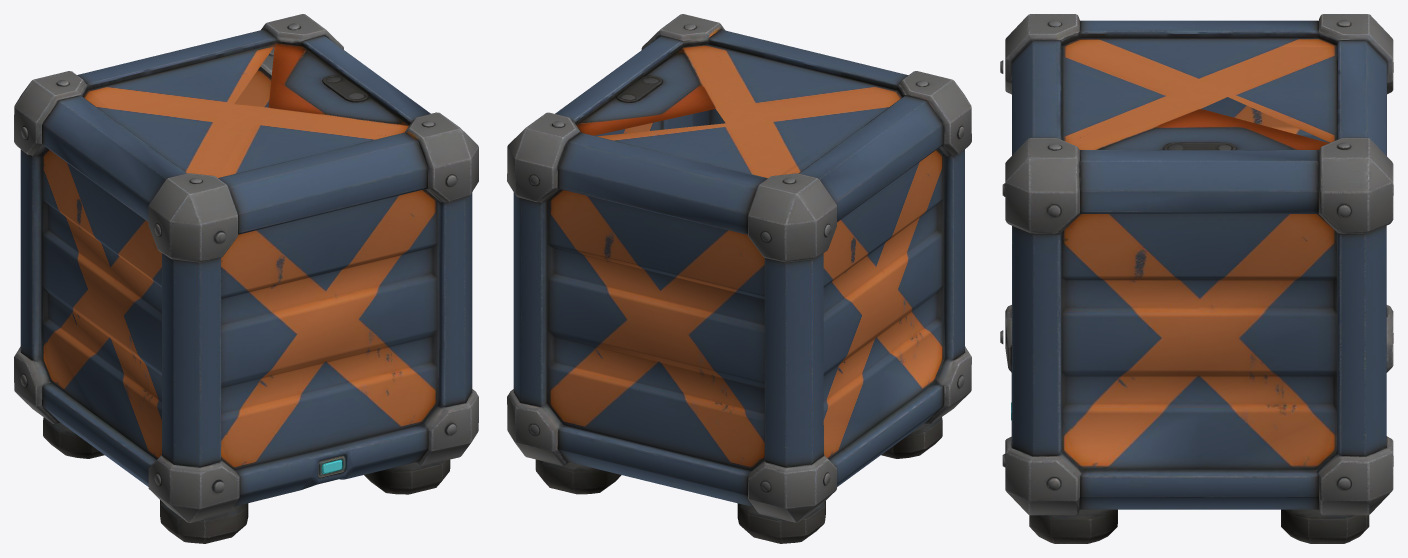
The model's file is selected.fbx.
3 renders of one model, left to right at view 1: azimuth 30°, elevation 25°; view 2: azimuth 150°, elevation 25°; view 3: azimuth 270°, elevation 25°, orthographic. The views are drawn at different scales.
Parts seen in each view (by area): view 1: tripo_node_4cbb2243-56c0-4f4a-9502-3c8828fa5b01; view 2: tripo_node_4cbb2243-56c0-4f4a-9502-3c8828fa5b01; view 3: tripo_node_4cbb2243-56c0-4f4a-9502-3c8828fa5b01.
Boxes of the visible parts, left/top/right/bottom form: tripo_node_4cbb2243-56c0-4f4a-9502-3c8828fa5b01: left=14, top=14, right=478, bottom=543; tripo_node_4cbb2243-56c0-4f4a-9502-3c8828fa5b01: left=507, top=14, right=971, bottom=543; tripo_node_4cbb2243-56c0-4f4a-9502-3c8828fa5b01: left=1000, top=14, right=1393, bottom=543.
Size of the model in its own units: 0.9106 by 0.9995 by 0.9106.
1 material, 1 textured.
